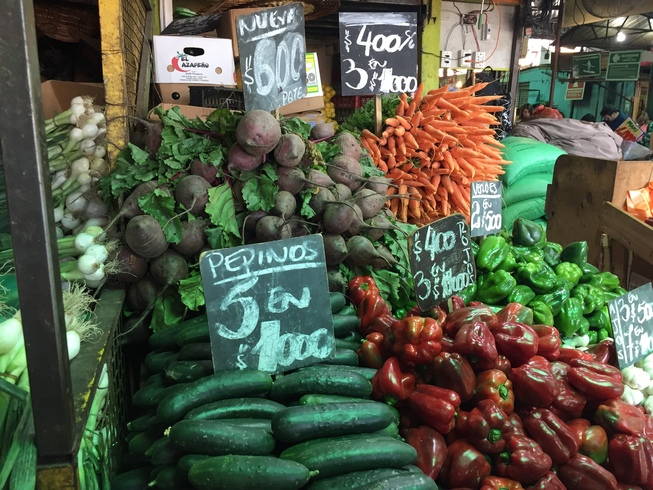precio: (202, 241, 336, 375), (240, 11, 308, 107), (342, 13, 419, 94), (414, 219, 474, 305), (605, 287, 653, 359), (474, 182, 503, 236)
